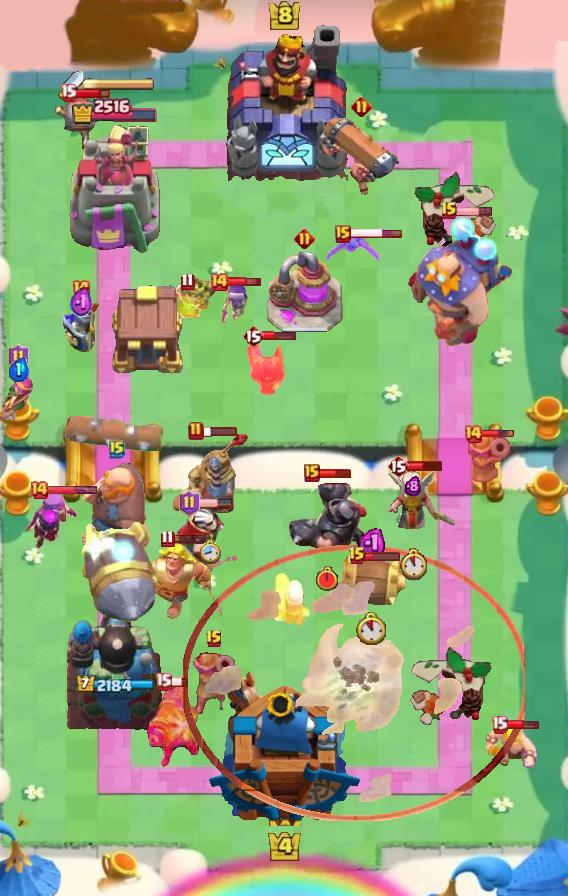archer: (485, 724, 539, 772)
balloon: (80, 459, 154, 567)
bar: (67, 122, 161, 256)
barbarian: (323, 231, 381, 267)
battle-healer: (320, 113, 402, 197)
bomb: (106, 282, 186, 376)
bomb-tower: (193, 646, 235, 716), (468, 430, 510, 498)
bomber-evolution: (174, 278, 222, 322)
cannon: (0, 374, 36, 424)
electro-spirit: (359, 526, 386, 558), (70, 286, 93, 320), (7, 357, 28, 382), (405, 476, 421, 496)
elixir: (398, 547, 429, 580), (356, 612, 386, 644), (315, 566, 339, 592), (198, 538, 221, 564)
emote: (46, 484, 98, 496), (349, 229, 403, 240), (407, 459, 445, 472), (171, 533, 209, 545), (226, 275, 261, 288), (202, 425, 238, 437), (504, 719, 540, 731), (75, 87, 110, 99), (263, 330, 298, 342), (455, 206, 493, 217), (363, 551, 400, 562), (318, 469, 352, 480), (197, 498, 233, 508), (481, 429, 515, 439), (169, 676, 189, 688)
goblin: (219, 282, 251, 324)
goblin-hut: (135, 541, 227, 625)
golden-knight: (246, 339, 288, 399)
king-tower: (207, 669, 361, 826), (219, 21, 349, 181)
king-tower-bar: (84, 77, 156, 91)
knight: (54, 96, 102, 150)
little-prince: (406, 215, 514, 349)
mega-minion: (146, 678, 202, 770)
minion: (64, 416, 164, 452)
pekka: (265, 252, 343, 334)
poison: (369, 462, 457, 540)
princess: (60, 300, 102, 356)
ram-rider: (169, 434, 249, 526)
rascal-girl: (23, 491, 79, 555)
royal-ghost: (183, 545, 525, 821)
royal-guardian: (286, 471, 368, 553)
selected: (70, 96, 158, 125), (74, 675, 154, 695)
skeleton-king: (168, 506, 242, 576)
text: (179, 490, 201, 516), (7, 344, 28, 370), (242, 324, 264, 348), (387, 454, 409, 478), (351, 96, 373, 117), (293, 227, 314, 249), (209, 272, 229, 292), (71, 279, 91, 299), (463, 424, 483, 444), (29, 480, 49, 500), (440, 201, 458, 221), (348, 546, 366, 566), (205, 629, 223, 649), (59, 83, 76, 102), (155, 673, 172, 692), (492, 715, 509, 734), (188, 421, 204, 441), (109, 439, 125, 459), (335, 225, 351, 243), (304, 464, 320, 482), (161, 528, 176, 547), (181, 273, 195, 291)
the-log: (334, 554, 408, 606)
tombstone: (271, 570, 313, 628)
tower-bar: (64, 601, 164, 731)
x-bow: (81, 520, 160, 624)
